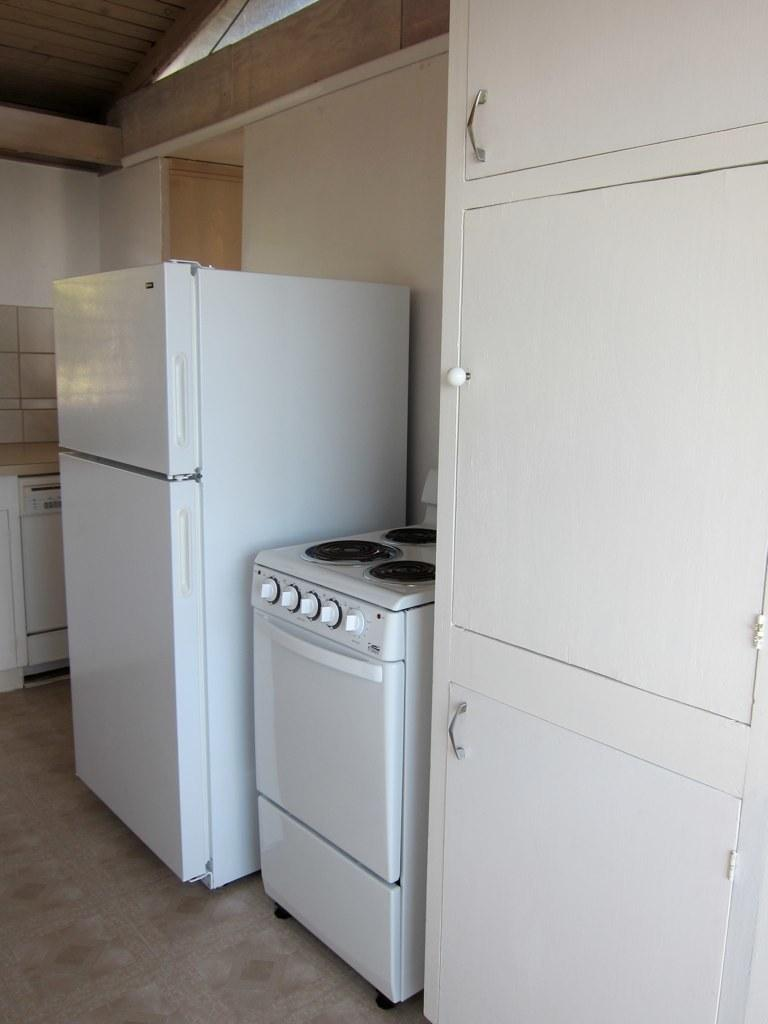cabinet_door: (462, 206, 753, 668), (449, 690, 746, 1024), (466, 24, 760, 155)
handle: (258, 614, 391, 688), (446, 688, 473, 778), (464, 61, 486, 169), (178, 485, 196, 599), (448, 348, 476, 414), (172, 353, 186, 448)
